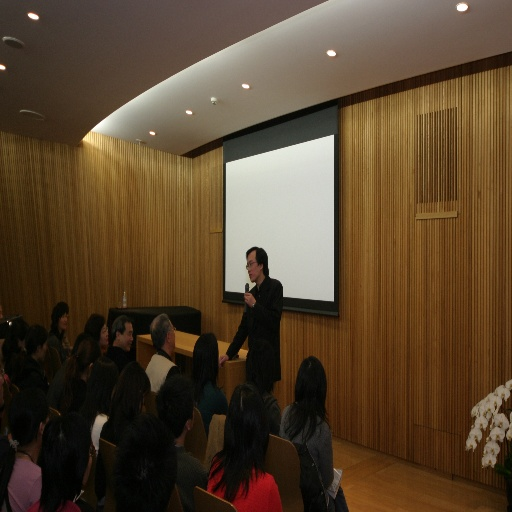hand: (244, 291, 255, 306), (217, 352, 228, 365)
